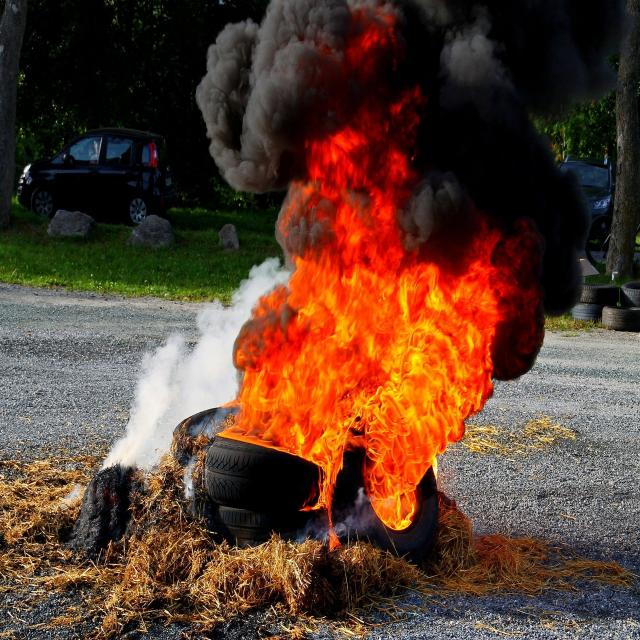fire: (219, 124, 518, 531)
